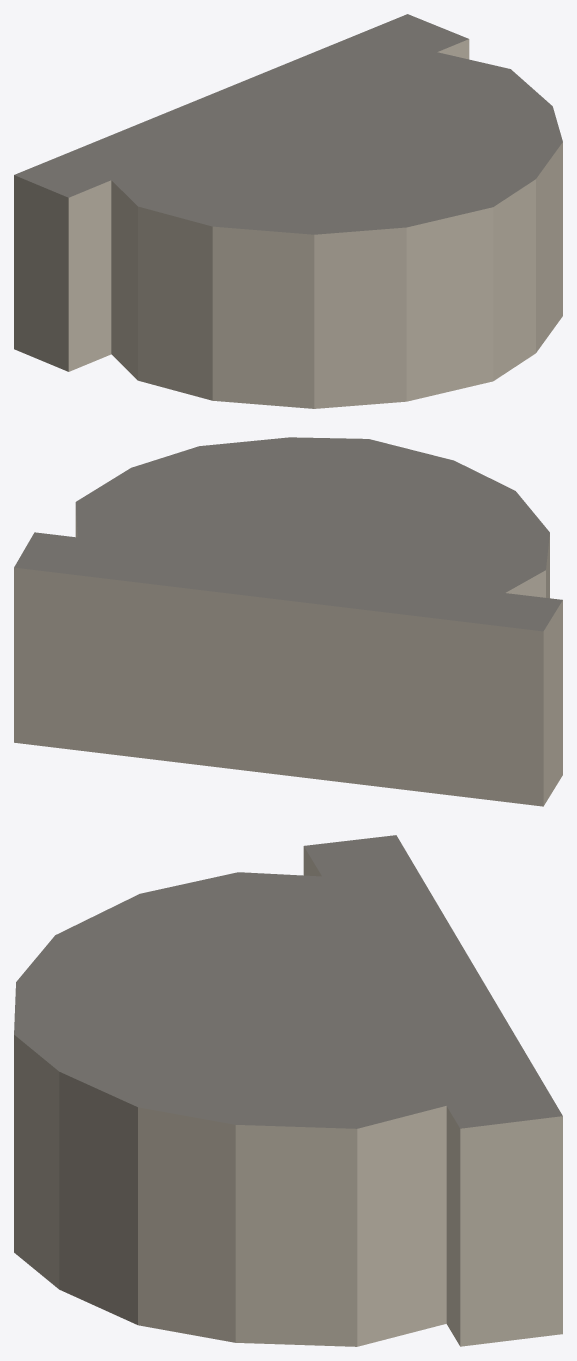
3 views of the same model, one above another, from view 1: azimuth 30°, elevation 25°; view 2: azimuth 150°, elevation 25°; view 3: azimuth 270°, elevation 25° (orthographic). The views are drawn at different scales.
Visible parts, largest first — view 1: HP-w1196980500; view 2: HP-w1196980500; view 3: HP-w1196980500.
Boxes of the visible parts, bbox=[...] form: HP-w1196980500: bbox=[14, 14, 562, 408]; HP-w1196980500: bbox=[14, 437, 562, 806]; HP-w1196980500: bbox=[14, 835, 562, 1346].
Size of the model in its own units: 52.02 by 18 by 41.08.
